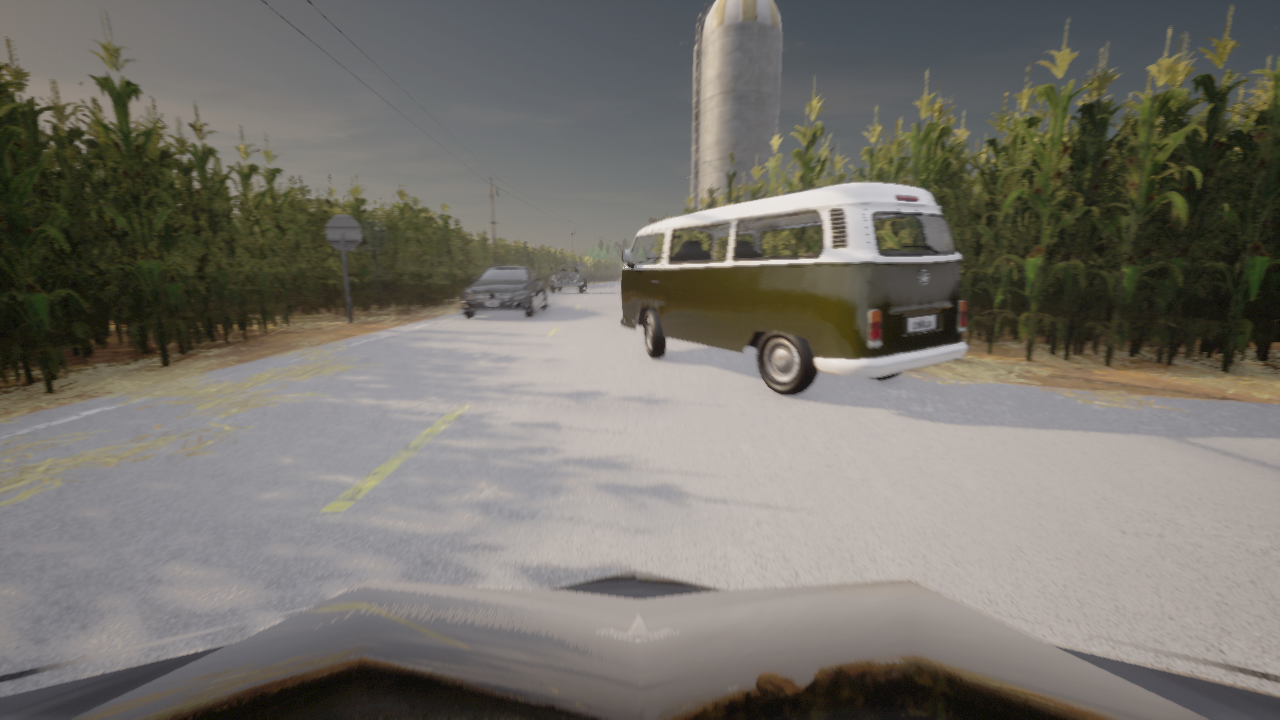cyclist: (0, 569, 1279, 719), (619, 182, 967, 396), (459, 266, 551, 318), (549, 263, 587, 293)
